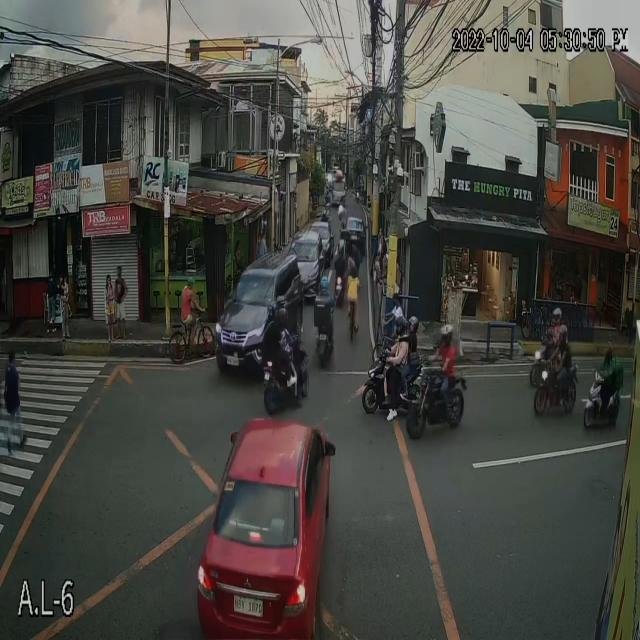Full-Faced: (278, 310, 292, 332), (547, 306, 561, 328), (264, 302, 278, 320), (602, 346, 614, 362), (446, 324, 456, 342), (557, 324, 568, 340), (408, 318, 418, 332), (317, 279, 327, 293), (395, 318, 406, 330)
Half-Faced: (331, 236, 345, 262)
Not-Wearing-Helmet: (347, 258, 357, 280)
